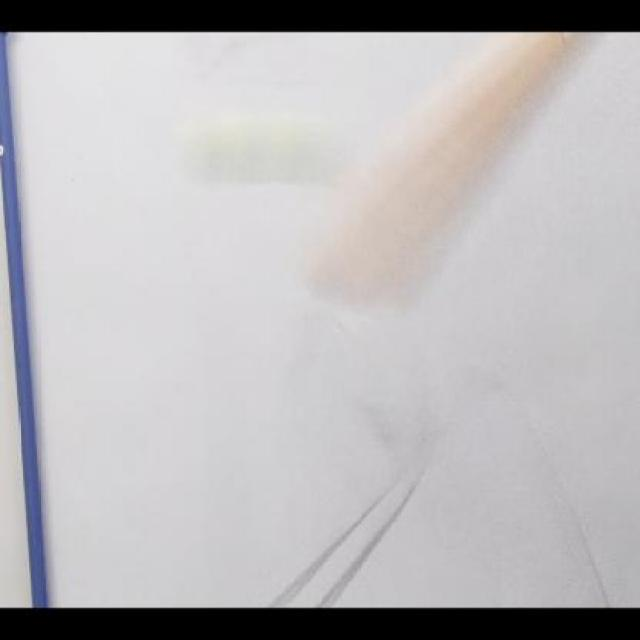baseball: (187, 113, 342, 184)
